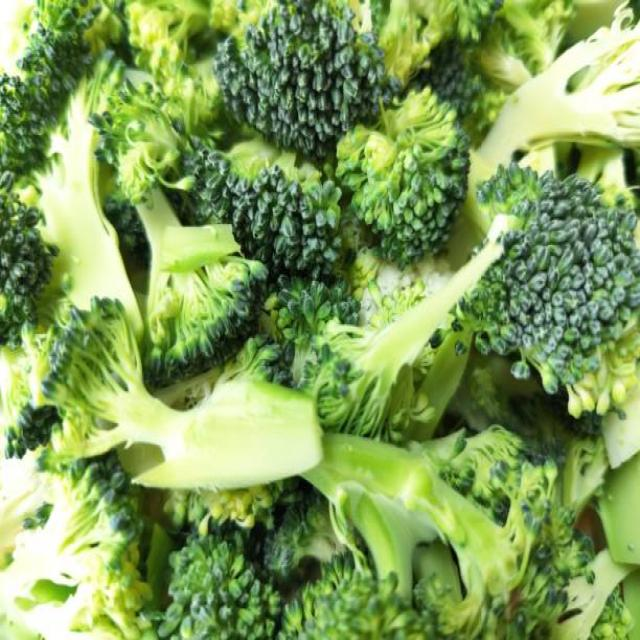broccoli: (343, 418, 592, 640), (460, 162, 640, 435), (0, 31, 131, 349), (229, 10, 444, 150), (340, 111, 473, 277), (160, 230, 266, 382)
